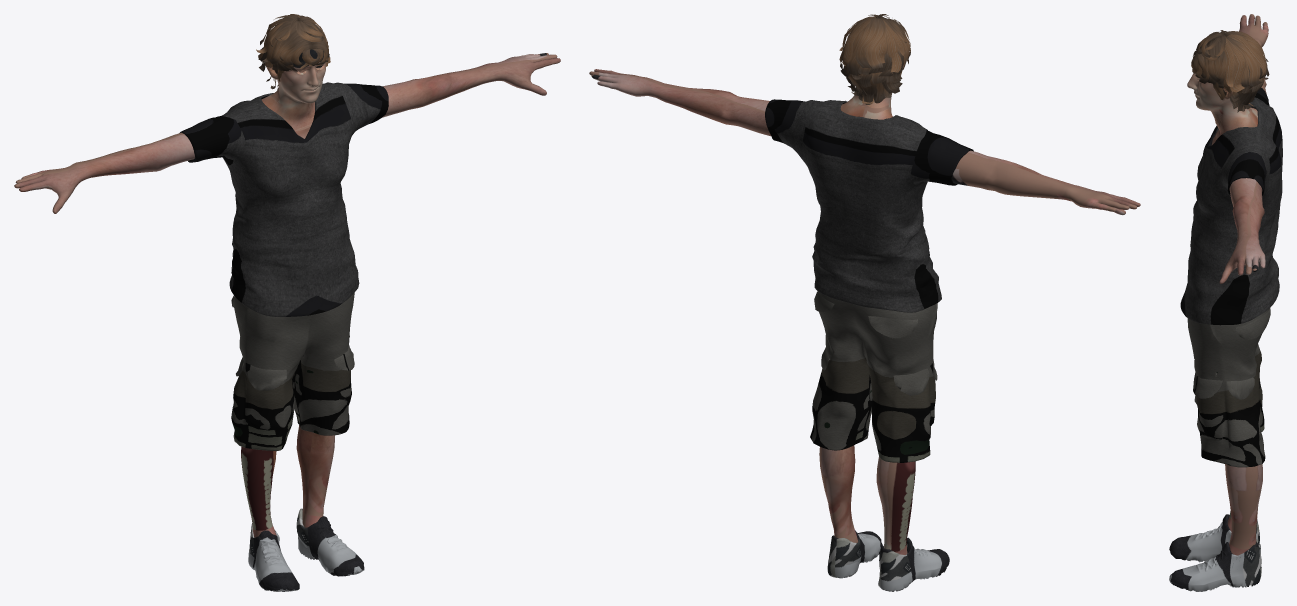
Rendered from guide_remy.glb.
3 renders of one model, left to right at view 1: azimuth 30°, elevation 25°; view 2: azimuth 150°, elevation 25°; view 3: azimuth 270°, elevation 25°, orthographic. The views are drawn at different scales.
Visible parts, largest first — view 1: Tops, Body, Bottoms, Shoes, Hair; view 2: Tops, Bottoms, Body, Hair, Shoes; view 3: Tops, Bottoms, Body, Shoes, Hair.
Part boxes in pixels (bbox=[...]): Tops: bbox=[179, 82, 388, 316]; Body: bbox=[14, 49, 560, 537]; Bottoms: bbox=[231, 293, 354, 451]; Shoes: bbox=[248, 508, 364, 591]; Hair: bbox=[256, 14, 330, 90]; Tops: bbox=[765, 99, 973, 312]; Bottoms: bbox=[810, 291, 937, 462]; Body: bbox=[589, 64, 1140, 555]; Hair: bbox=[839, 14, 910, 104]; Shoes: bbox=[827, 530, 949, 591]; Tops: bbox=[1180, 87, 1282, 325]; Bottoms: bbox=[1187, 307, 1270, 467]; Body: bbox=[1187, 14, 1268, 555]; Shoes: bbox=[1169, 514, 1261, 591]; Hair: bbox=[1191, 30, 1269, 112].
Bounding box in the file's own units: 389 × 378 × 72.3.
5 materials, 5 textured.
